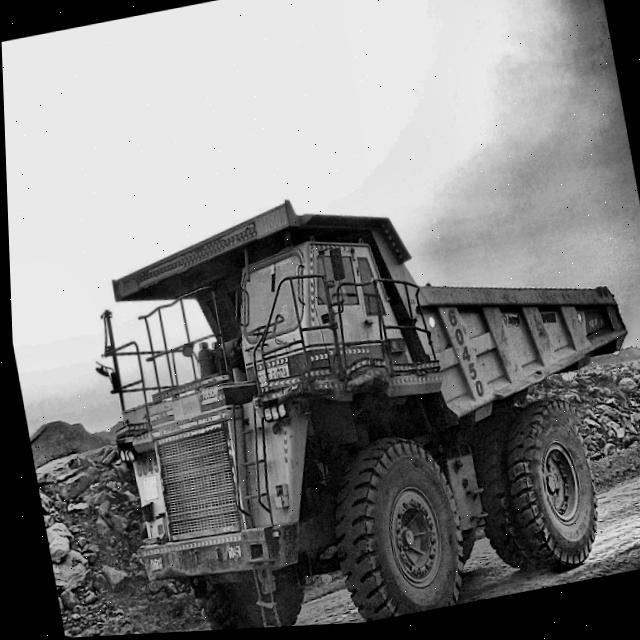dump_truck: (96, 206, 625, 632)
